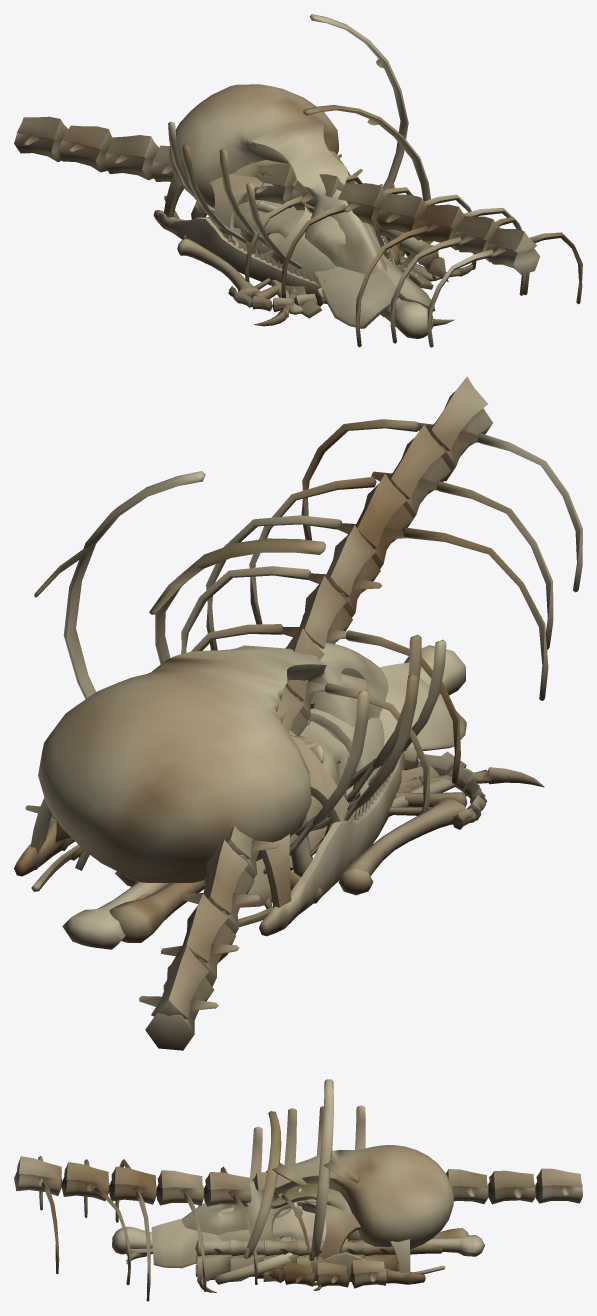
The model's file is bones.glb.
3 views of the same model, one above another, from view 1: azimuth 30°, elevation 25°; view 2: azimuth 150°, elevation 25°; view 3: azimuth 270°, elevation 25° (orthographic). The views are drawn at different scales.
Parts seen in each view (by area): view 1: lizard_spine, bird_skull, bird_ribcage, bird_pelvis, lizard_skull, lizard_jaw, lizard_limb, lizard_tail, bird_tibia, bird_sternum, bird_foot, bird_skull_small (+1 smaller); view 2: bird_skull, lizard_spine, bird_ribcage, lizard_jaw, bird_pelvis, lizard_skull, lizard_limb, bird_foot, bird_tibia, lizard_tail, bird_sternum; view 3: lizard_spine, bird_skull, bird_ribcage, bird_pelvis, lizard_skull, lizard_tail, bird_tibia, bird_skull_small, lizard_jaw, rib, bird_foot, vertebra.
Part boxes in pixels (x1,y1,x2,y2): lizard_spine: (14, 116, 582, 347); bird_skull: (168, 84, 387, 274); bird_ribcage: (168, 14, 448, 282); bird_pelvis: (164, 195, 435, 328); lizard_skull: (164, 151, 384, 281); lizard_jaw: (153, 182, 395, 304); lizard_limb: (177, 238, 285, 299); lizard_tail: (228, 180, 406, 312); bird_tibia: (382, 299, 433, 338); bird_sternum: (206, 217, 433, 318); bird_foot: (254, 263, 473, 326); bird_skull_small: (233, 160, 343, 231); bird_skull: (38, 643, 388, 882); lizard_spine: (139, 376, 582, 1050); bird_ribcage: (34, 471, 446, 874); lizard_jaw: (14, 752, 405, 936); bird_pelvis: (31, 662, 466, 927); lizard_skull: (30, 708, 384, 907); lizard_limb: (338, 792, 467, 895); bird_foot: (109, 767, 544, 942); bird_tibia: (62, 645, 465, 949); lizard_tail: (25, 747, 487, 850); bird_sternum: (71, 751, 466, 908); lizard_spine: (14, 1156, 582, 1301); bird_skull: (182, 1145, 453, 1249); bird_ribcage: (195, 1079, 398, 1281); bird_pelvis: (151, 1206, 445, 1274); lizard_skull: (218, 1200, 410, 1273); lizard_tail: (252, 1260, 387, 1288); bird_tibia: (112, 1226, 484, 1256); bird_skull_small: (233, 1183, 361, 1240); lizard_jaw: (304, 1252, 425, 1284); rib: (215, 1252, 293, 1284); bird_foot: (126, 1203, 468, 1292); vertebra: (275, 1188, 316, 1240).
Bounding box in the file's own units: 0.0312 × 0.0261 × 0.0738.
